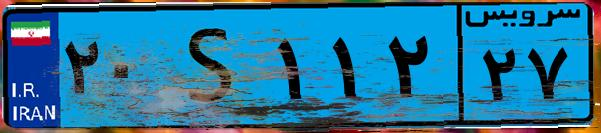0: (110, 28, 158, 98)
1: (270, 28, 330, 110), (330, 28, 385, 110)
2: (385, 28, 445, 110), (57, 26, 110, 100), (475, 38, 525, 113)
7: (525, 38, 570, 115)
S: (158, 12, 270, 120)
